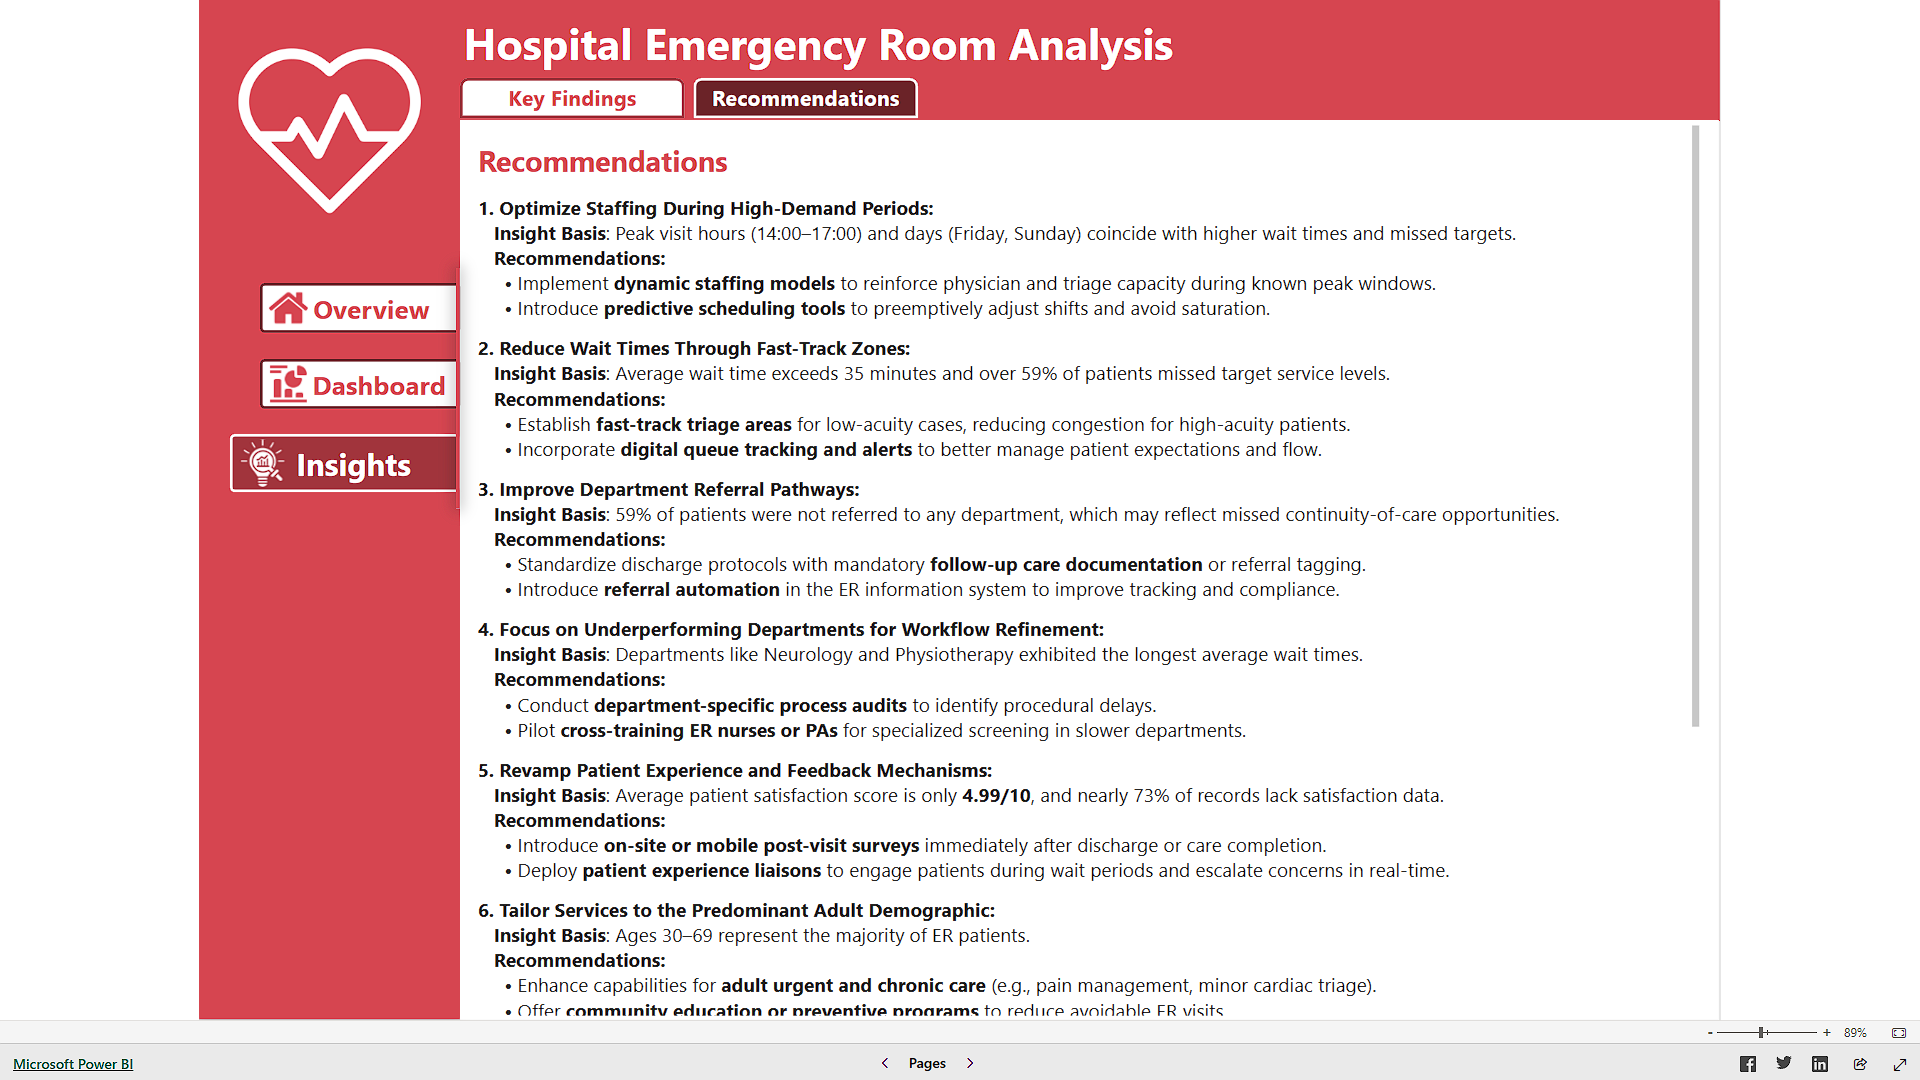

This screenshot's page, from the dashboard's own definition file:
{"tool":"powerbi","page":{"name":"Recommendations","canvas":[1700,1140],"ordinal":8},"visuals":[{"type":"shape","box":[0,0,292.2,1139.5],"z":0},{"type":"textbox","title":"Hospital Emergency Room Analysis","box":[290.8,14.7,938.4,91],"z":0,"group":"g1"},{"type":"actionButton","box":[68.2,316.7,224,55.7],"z":0,"group":"g2"},{"type":"shape","box":[292,0,1408,135],"z":1000},{"type":"actionButton","box":[68.2,401.6,224,55.7],"z":1000,"group":"g2"},{"type":"image","box":[0,38.6,291.4,214.3],"z":2000},{"type":"actionButton","box":[35,485.2,257,65],"z":2000,"group":"g2"},{"type":"shape","box":[291.4,134.3,1407.1,1005.7],"z":3000},{"type":"shape","box":[288,300,4.2,268.5],"z":3000,"group":"g2"},{"type":"textbox","box":[292.2,135,1405.2,1004.5],"z":4000},{"type":"pageNavigator","box":[292.2,87.7,513.4,45.9],"z":5000},{"type":"group","id":"g1","title":"Group 1","box":[290.8,14.7,938.4,91],"z":6000},{"type":"group","id":"g2","title":"Group 2","box":[35,300,257.2,268.5],"z":7000}]}

Visuals, with their boxes on the page's 1700x1140 design canvas (x1, y1, x2, y2). These are canvas units, not pixel positions in the 1920x1080 screenshot, which may show the page scaled, cropped or inside an application window:
shape: bbox=(0, 0, 292, 1140)
"Hospital Emergency Room Analysis" textbox: bbox=(291, 15, 1229, 106)
actionButton: bbox=(68, 317, 292, 372)
shape: bbox=(292, 0, 1700, 135)
actionButton: bbox=(68, 402, 292, 457)
image: bbox=(0, 39, 291, 253)
actionButton: bbox=(35, 485, 292, 550)
shape: bbox=(291, 134, 1698, 1140)
shape: bbox=(288, 300, 292, 568)
textbox: bbox=(292, 135, 1697, 1140)
pageNavigator: bbox=(292, 88, 806, 134)
"Group 1" group: bbox=(291, 15, 1229, 106)
"Group 2" group: bbox=(35, 300, 292, 568)
